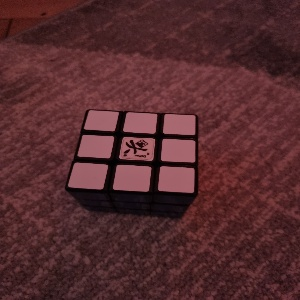cube: (64, 108, 198, 218)
